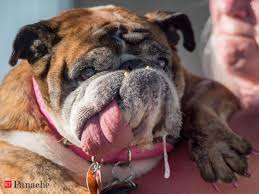Bulldog: (3, 5, 249, 172)
